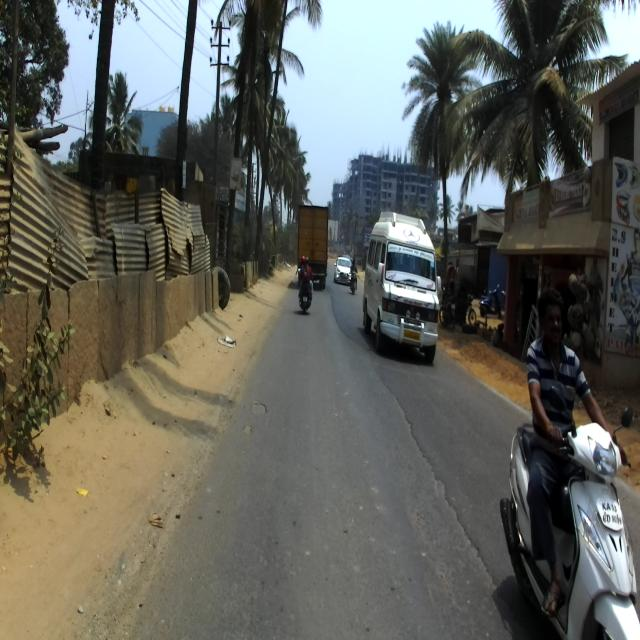bus ahead at: (365, 206, 442, 363)
motorcycle ahead at: (510, 412, 640, 640)
